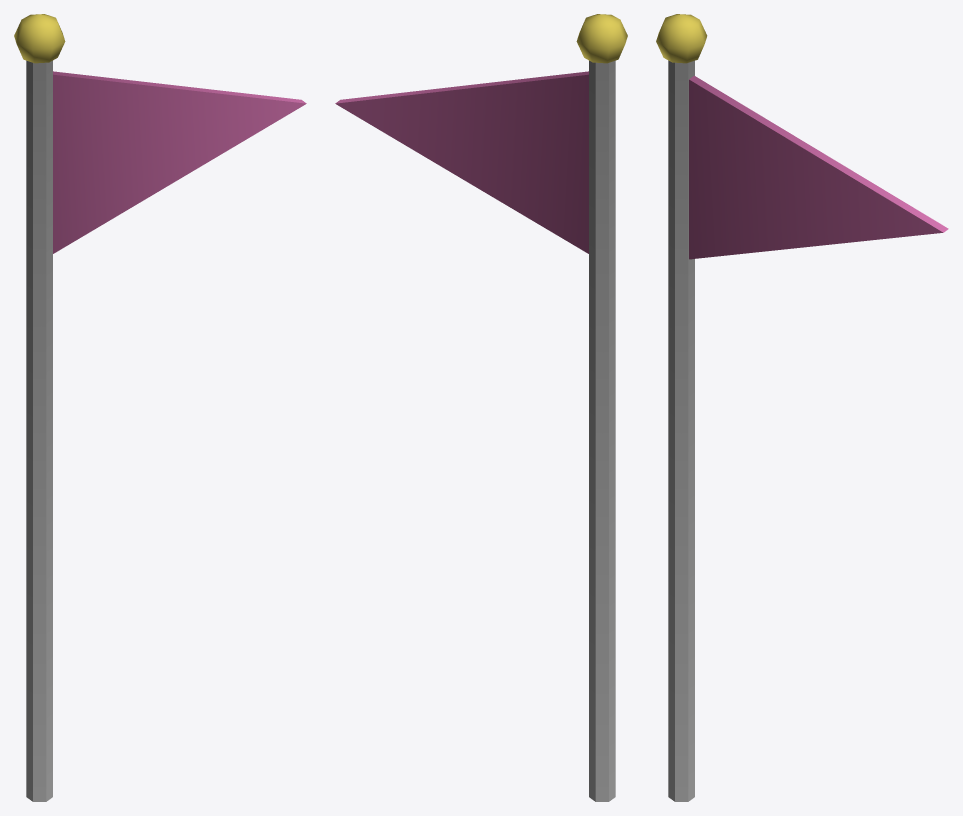
Rendered from pennant.glb.
3 views of the same model, side by side, from view 1: azimuth 30°, elevation 25°; view 2: azimuth 150°, elevation 25°; view 3: azimuth 330°, elevation 25° (orthographic).
Parts seen in each view (by area): view 1: pennant; view 2: pennant; view 3: pennant.
Part boxes in pixels (box(x1,y1,x2,y2)): pennant: box(14, 14, 306, 801); pennant: box(335, 14, 627, 801); pennant: box(656, 14, 948, 801).
Bounding box in the file's own units: 1.25 × 3.25 × 0.2.
